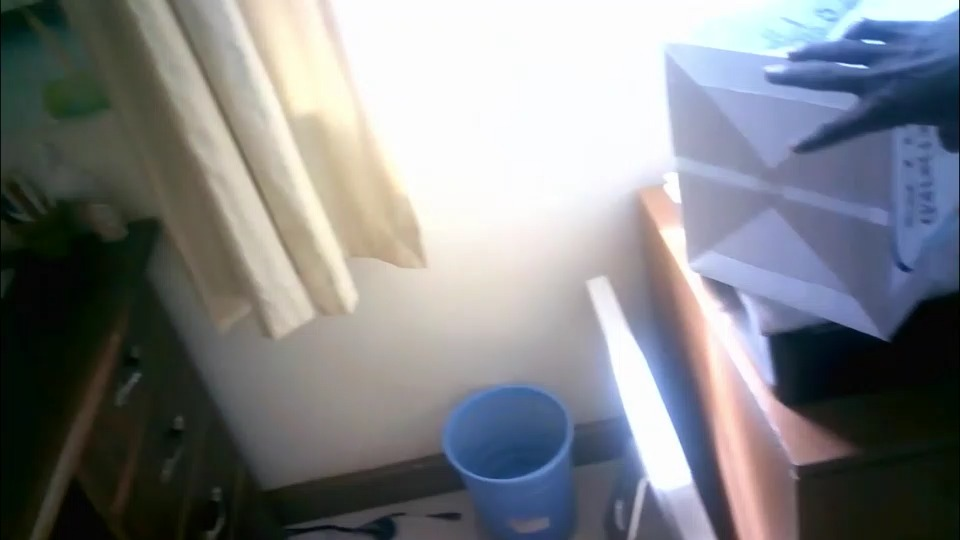wheat_flour_blue_label: (666, 4, 956, 336)
